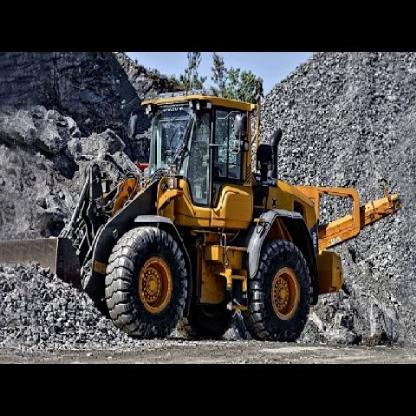bull_dozer/loader/grader: (19, 84, 343, 347)
